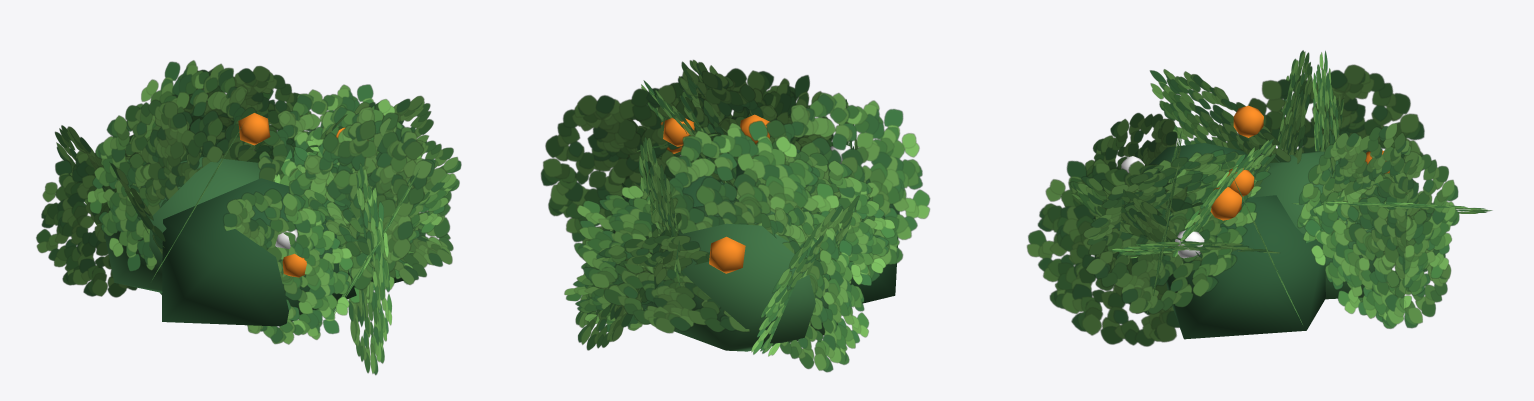
File: nature_hedge2.glb
3 views of the same model, side by side, from view 1: azimuth 30°, elevation 25°; view 2: azimuth 150°, elevation 25°; view 3: azimuth 270°, elevation 25° (orthographic). The views are drawn at different scales.
Visible parts, largest first — view 1: nature_hedge2; view 2: nature_hedge2; view 3: nature_hedge2.
Part boxes in pixels (x1,y1,x2,y2): nature_hedge2: (36,60,461,375); nature_hedge2: (541,59,930,372); nature_hedge2: (1027,50,1492,346).
Bounding box in the file's own units: 1.74 × 1.44 × 2.11.
Materials: 5 (1 with a texture image).
